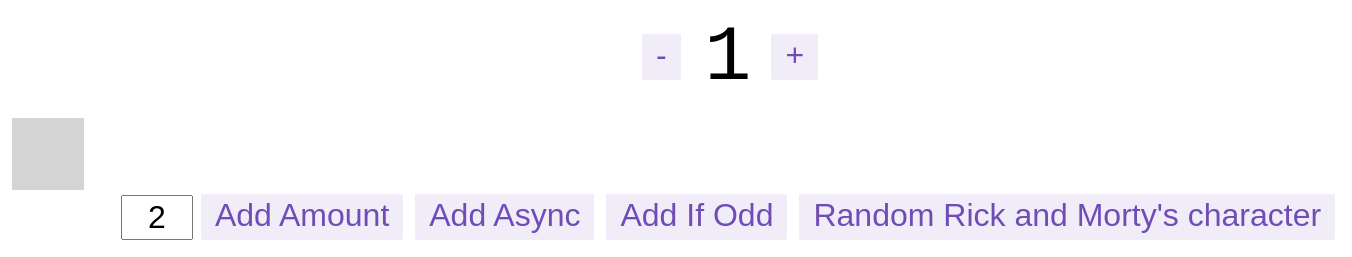
<Counter /> Tests › should substract 1 when clicked minus button
Click the button named "Decrement value" at (661, 57), box [642,34,681,80]
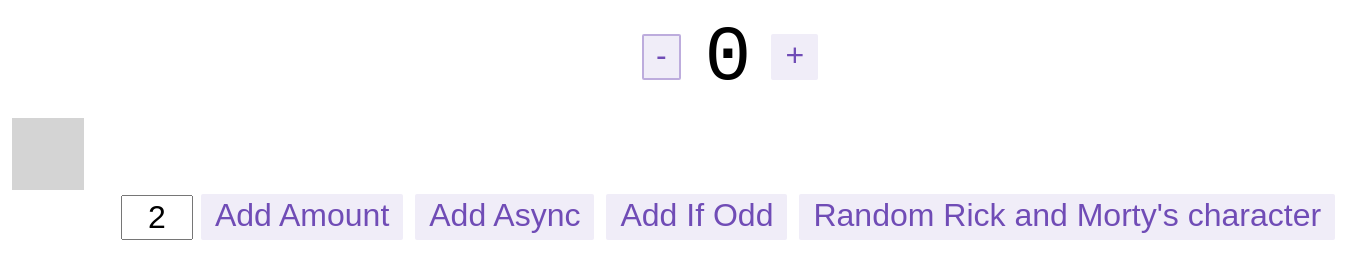
Click the button named "Decrement value" at (661, 57), box [642,34,681,80]
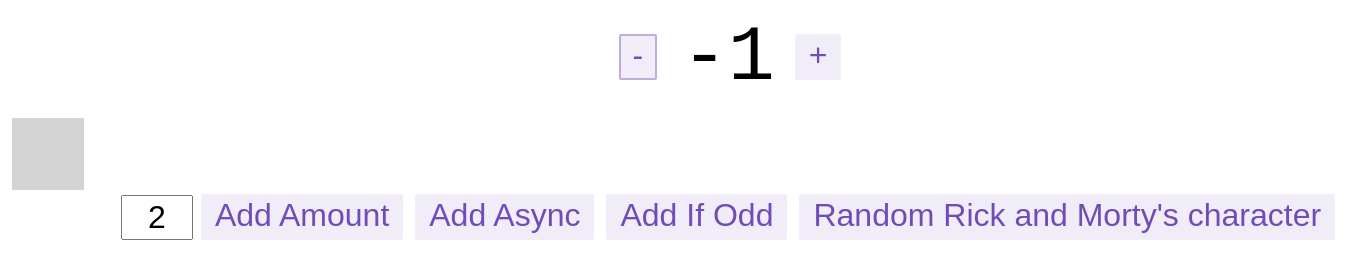
Expected: the text "-1" is shown, [681,14,775,102]
